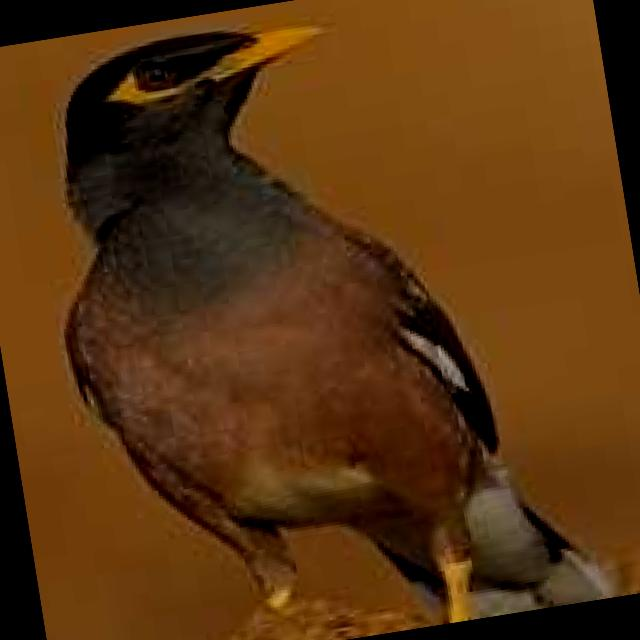bird: (22, 0, 615, 640)
